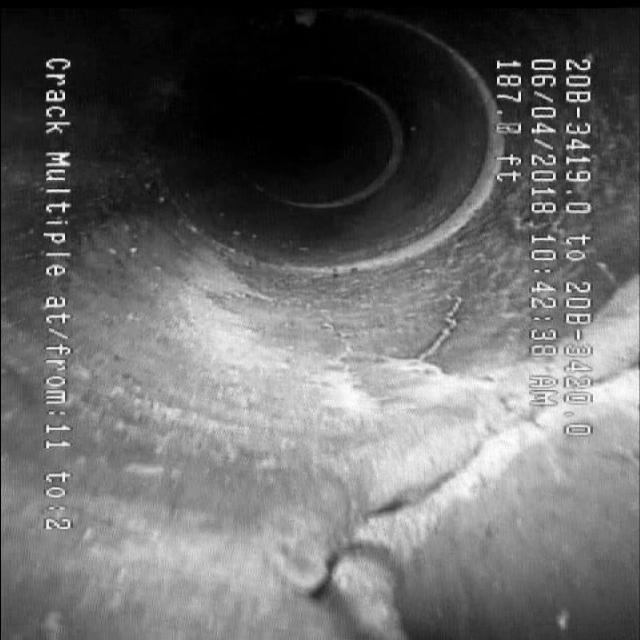Crack: (321, 273, 523, 597)
